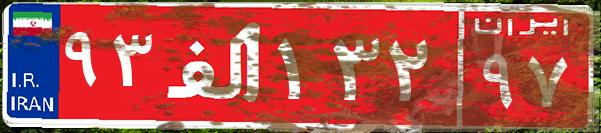1: (273, 28, 330, 110)
2: (385, 28, 445, 110)
3: (330, 28, 385, 110), (110, 28, 158, 105)
7: (525, 38, 570, 115)
9: (57, 26, 110, 107), (475, 38, 525, 113)
الف: (158, 15, 273, 115)
